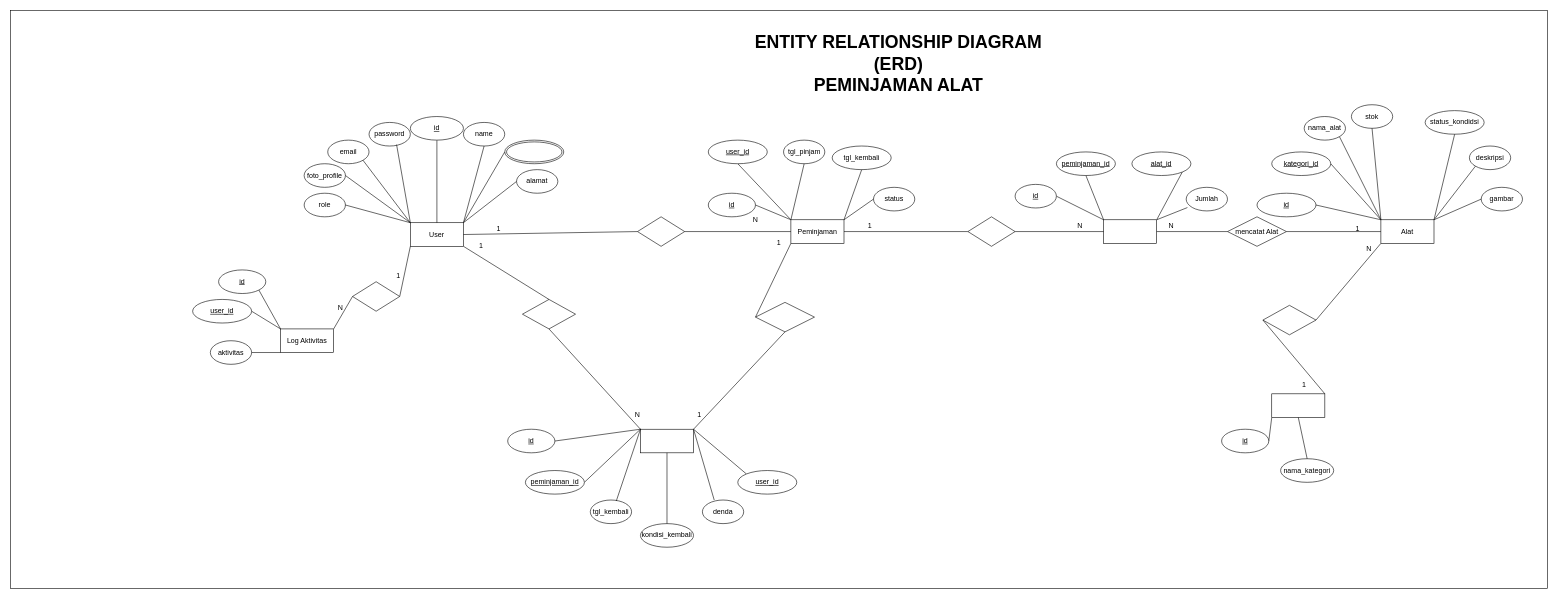
The diagram is 1558 pixels wide and 599 high, and some of its shapes have lost their labels. Here are the shapes that lost their labels. From the top down, the centre of each, then its label:
At point 534,152: "no_hp".
At point 661,231: "Mengajukan".
At point 991,231: "Memiliki".
At point 1130,231: "Detail Peminjam".
At point 376,296: "Mencatat".
At point 549,314: "memverifikasi".
At point 784,317: "Dicatat pada".
At point 1289,320: "Termasuk dalam".
At point 1298,405: "Kategori".
At point 667,441: "Pengembalian".
